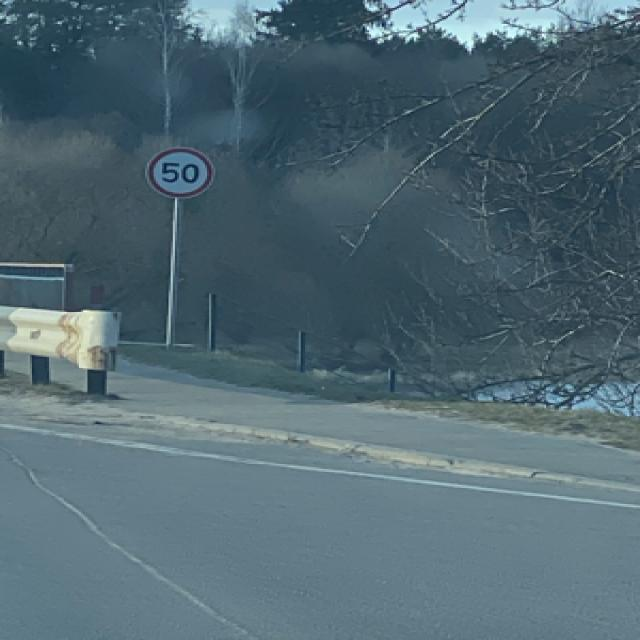speedlimit: (143, 146, 211, 198)
